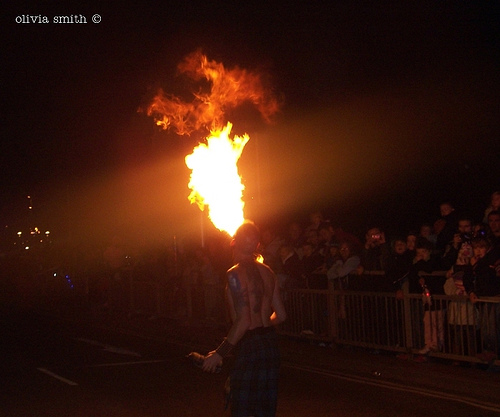fire: (179, 115, 253, 234)
